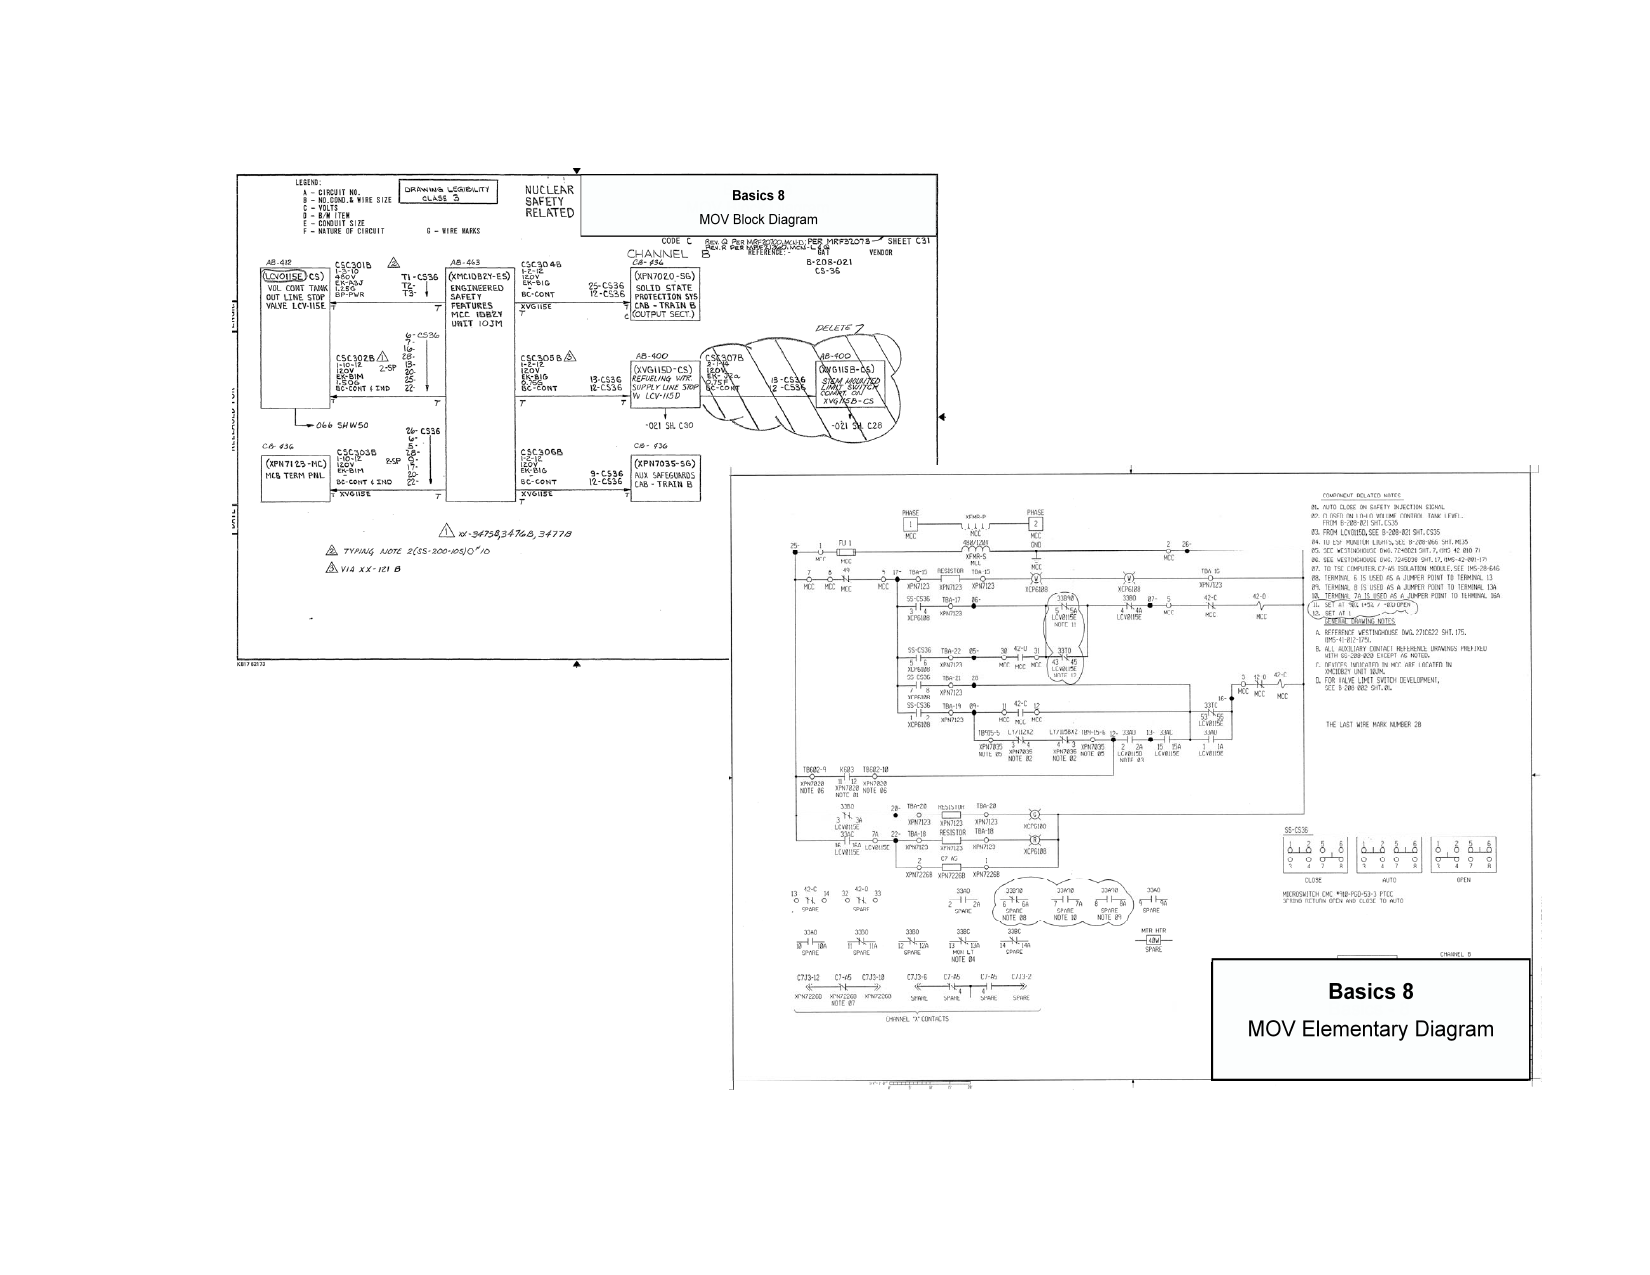transformer: (943, 509, 1007, 562)
